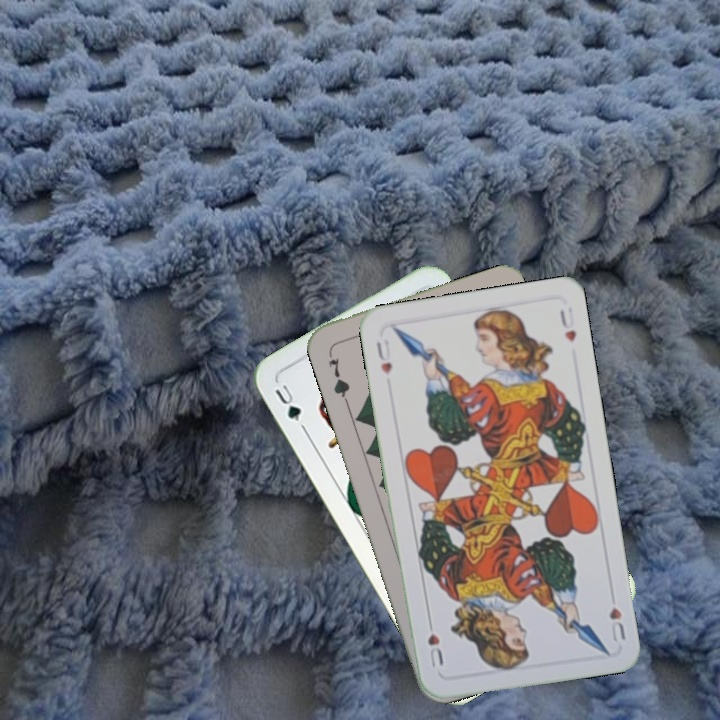G7: (324, 347, 353, 404)
GU: (270, 380, 308, 432)
HU: (372, 335, 395, 377), (605, 604, 628, 646)
